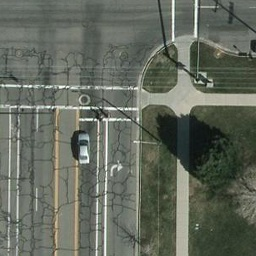car: (77, 131, 93, 165)
